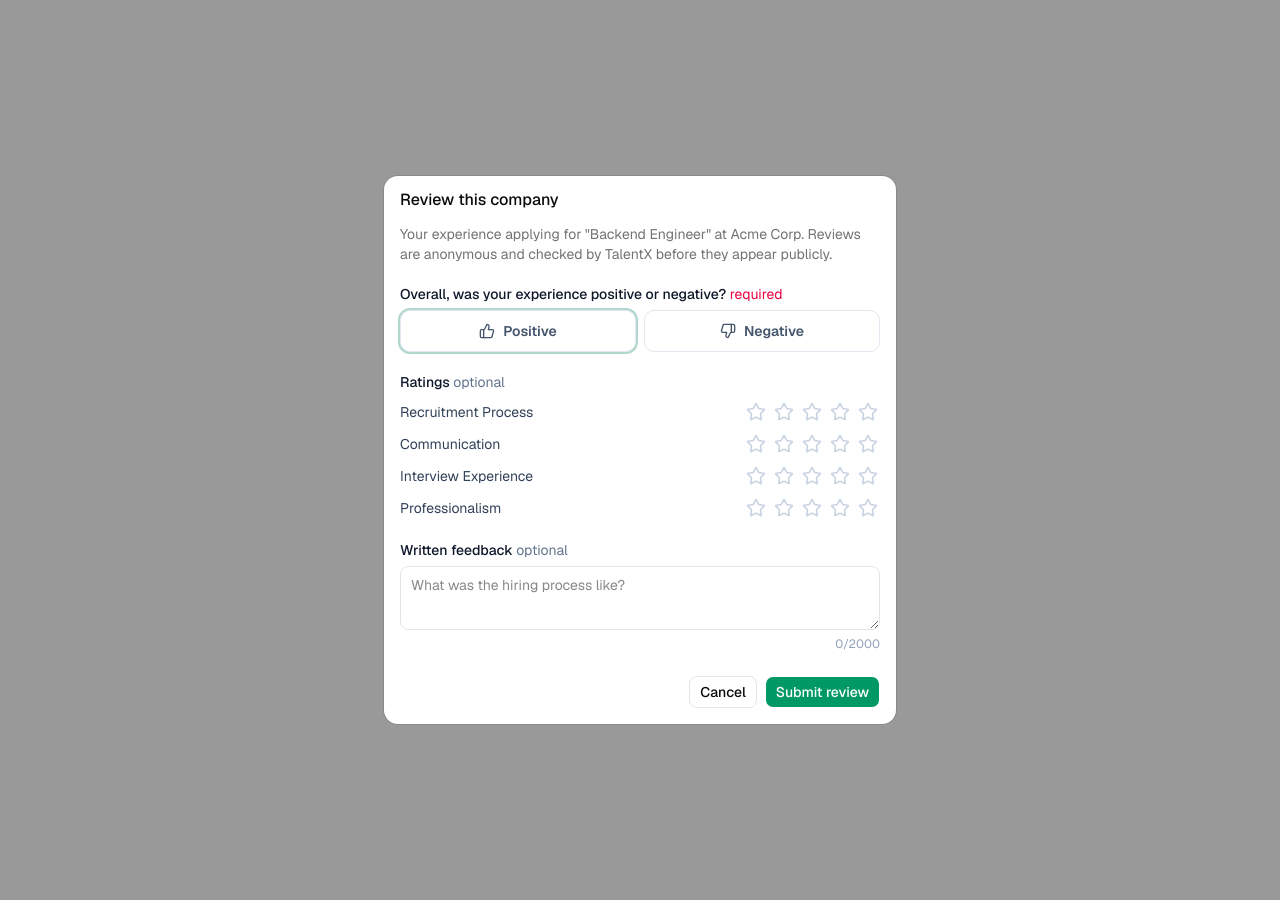
it: ReviewFormDialog (new review) › blocks submitting without a sentiment and explains why
The image size is (1280, 900).
Step 1. Click the button "Submit review" → (822, 692), box top-left (765, 676), bottom-right (880, 708)
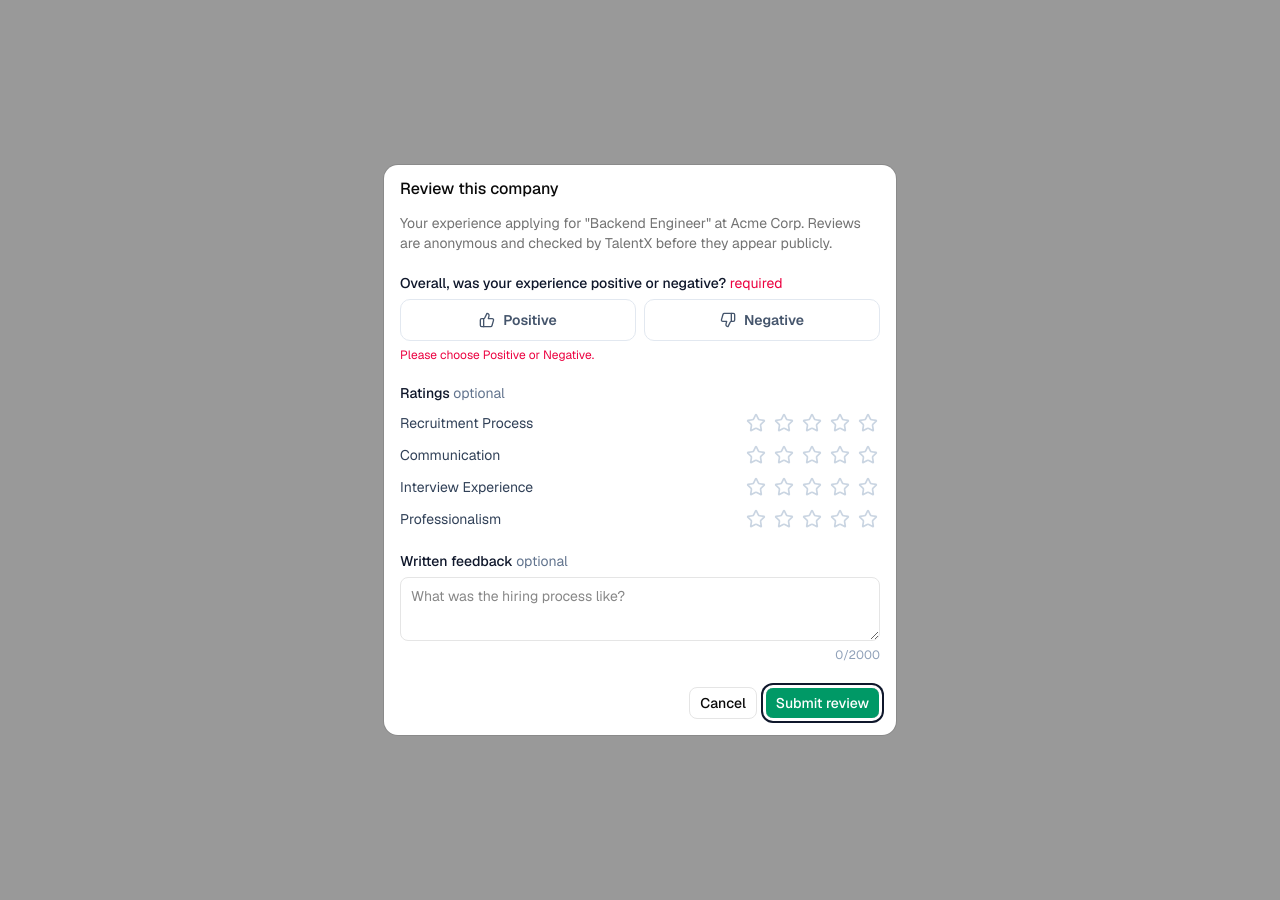
Now the text "Please choose Positive or Negative." is shown, box top-left (400, 347), bottom-right (594, 363)
